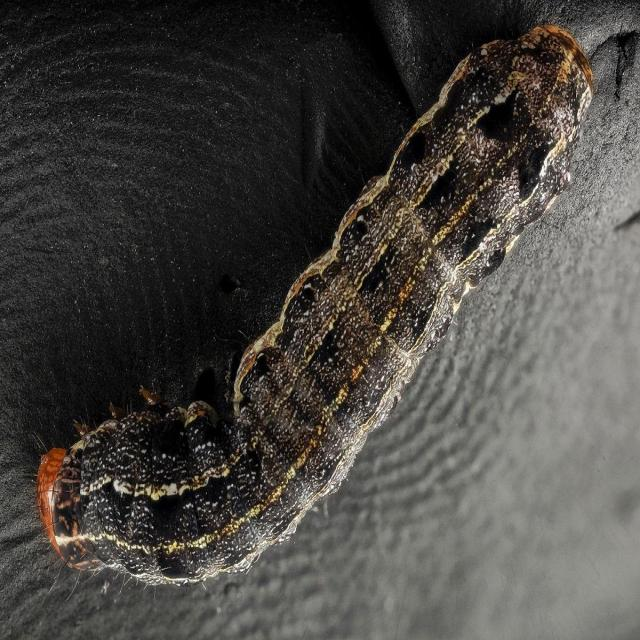army worm: (29, 9, 596, 599)
